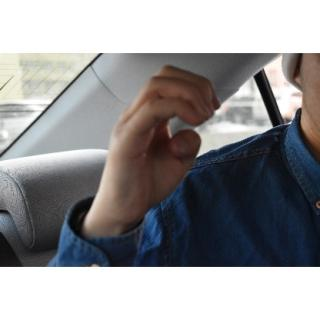JEEM: (92, 62, 225, 230)
